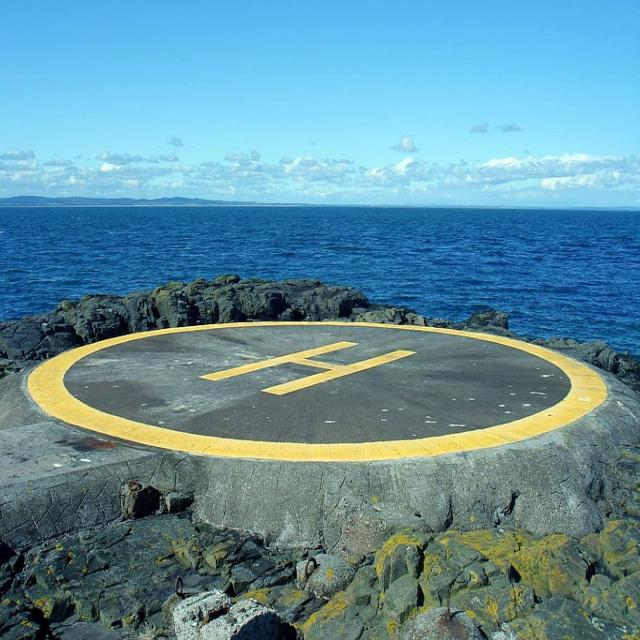helipad: (23, 313, 609, 465)
